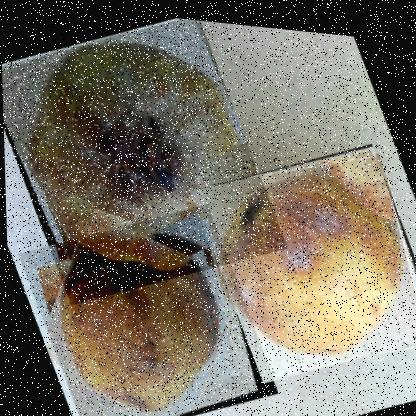guava_rotten: (0, 0, 288, 321), (187, 118, 415, 391), (14, 181, 279, 415)
